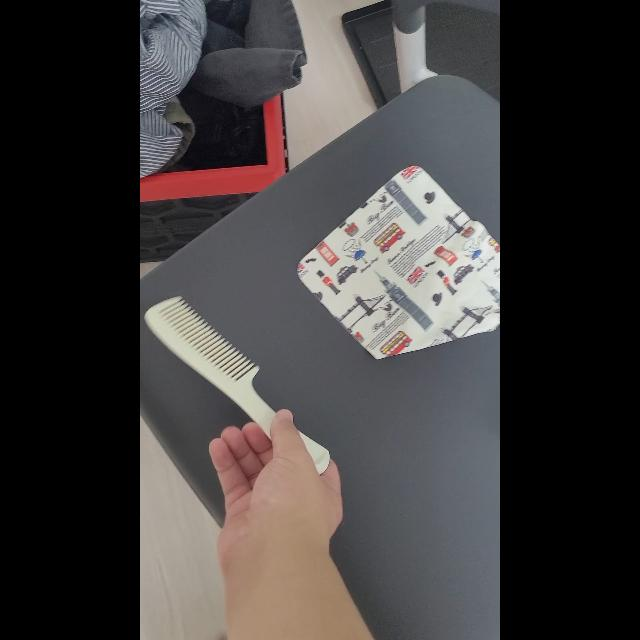COMB: (144, 295, 330, 475)
Glasses cleaning cloth: (298, 164, 500, 360)
